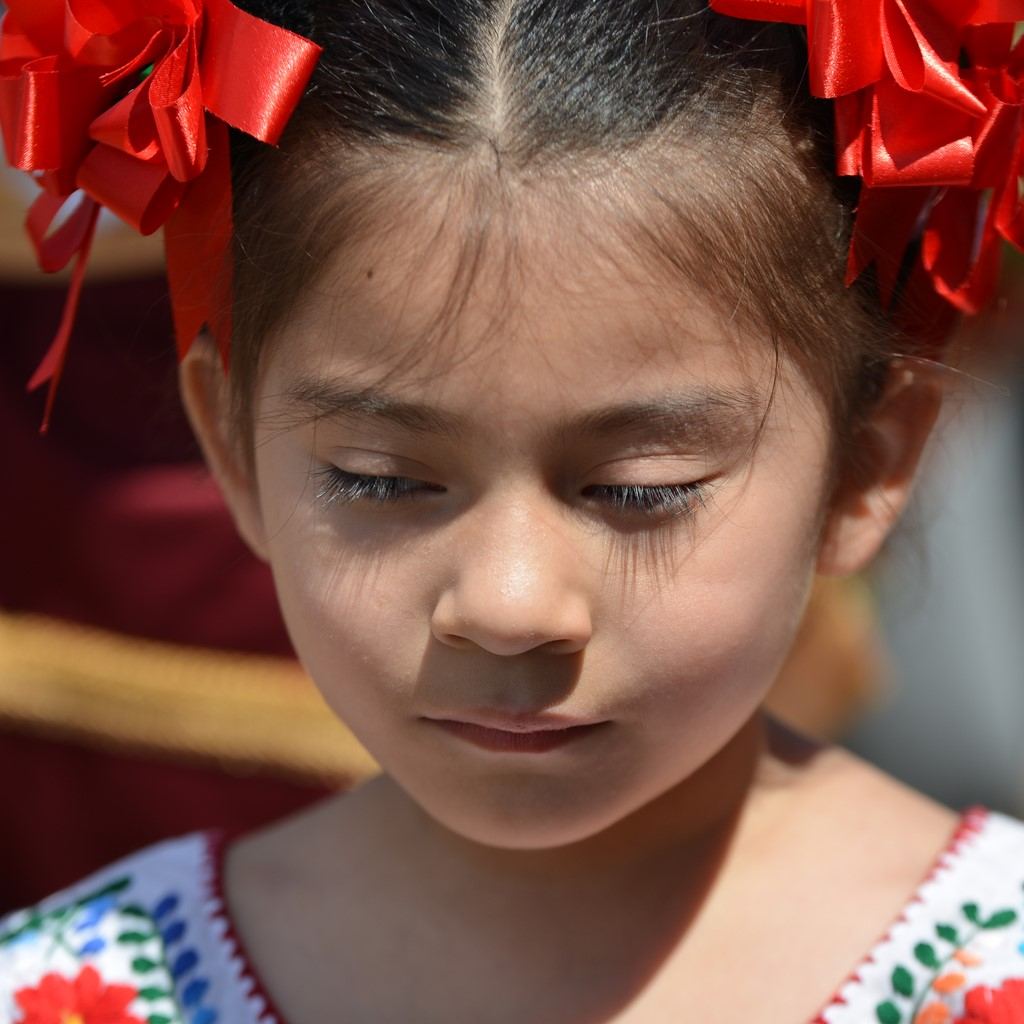sin_mascara: (242, 105, 844, 863)
